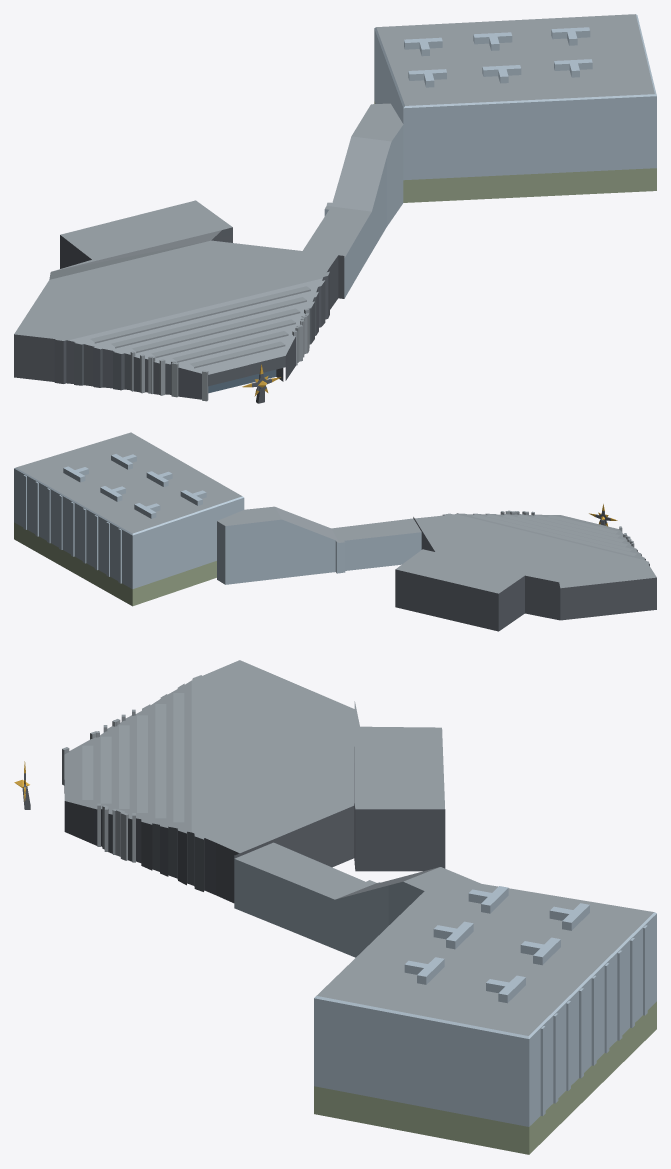
Rendered from wdw-epcot-cosmic-rewind.glb.
3 views of the same model, one above another, from view 1: azimuth 30°, elevation 25°; view 2: azimuth 150°, elevation 25°; view 3: azimuth 270°, elevation 25° (orthographic). The views are drawn at different scales.
Visible parts, largest first — view 1: Guardians of the Galaxy: Cosmic Rewind; view 2: Guardians of the Galaxy: Cosmic Rewind; view 3: Guardians of the Galaxy: Cosmic Rewind.
Part boxes in pixels (bbox=[...]): Guardians of the Galaxy: Cosmic Rewind: bbox=[14, 14, 656, 403]; Guardians of the Galaxy: Cosmic Rewind: bbox=[14, 432, 656, 631]; Guardians of the Galaxy: Cosmic Rewind: bbox=[14, 660, 656, 1154].
Bounding box in the file's own units: 306 × 40.6 × 188.
